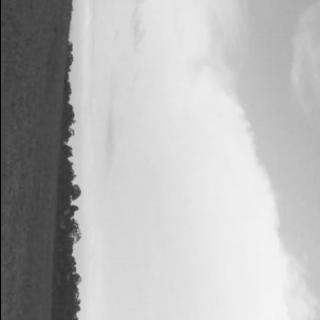Stratus: (74, 0, 320, 320)
